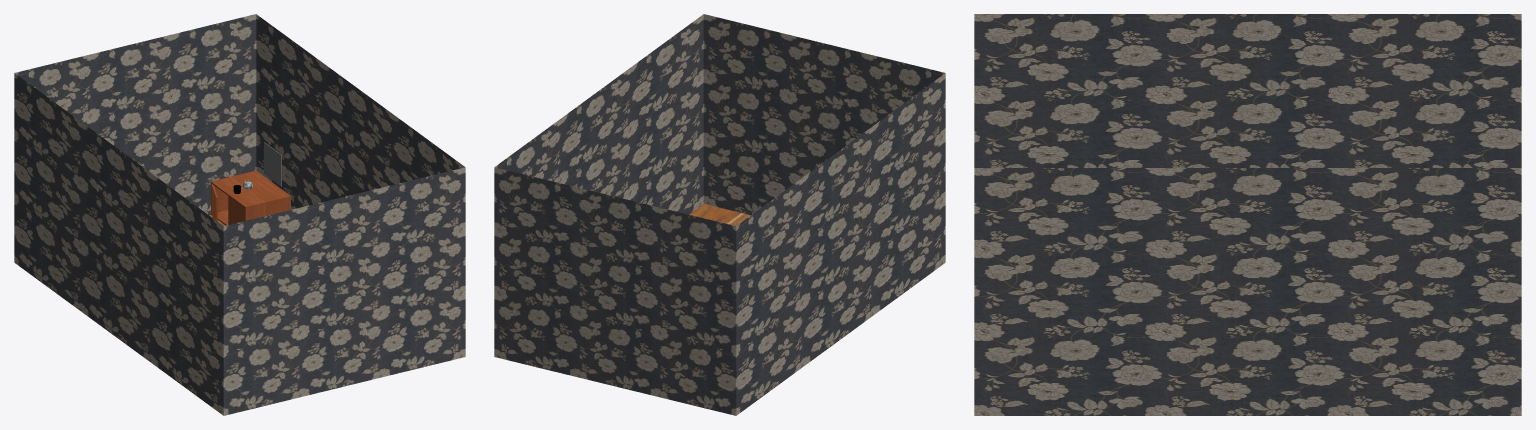
The picture shows the model from 3 angles, left to right: view 1: azimuth 30°, elevation 25°; view 2: azimuth 150°, elevation 25°; view 3: azimuth 270°, elevation 25°; orthographic projection. The views are drawn at different scales.
Visible parts, largest first — view 1: PlaneXZ0, PlaneZY0, PlaneXZ1, PlaneZY1, BoxLockerTop, BoxMirror, BoxLockerRight; view 2: PlaneXZ1, PlaneZY0, PlaneXZ0, PlaneZY1, PlaneXY0; view 3: PlaneZY1, PlaneZY0.
Boxes of the visible parts, left/top/right/bottom form: PlaneXZ0: left=223, top=167, right=465, bottom=415; PlaneZY0: left=14, top=73, right=223, bottom=415; PlaneXZ1: left=15, top=14, right=256, bottom=214; PlaneZY1: left=256, top=14, right=464, bottom=209; BoxLockerTop: left=211, top=170, right=290, bottom=208; BoxMirror: left=264, top=142, right=281, bottom=186; BoxLockerRight: left=245, top=197, right=290, bottom=220; PlaneXZ1: left=494, top=167, right=736, bottom=415; PlaneZY0: left=736, top=73, right=945, bottom=415; PlaneXZ0: left=703, top=14, right=944, bottom=214; PlaneZY1: left=495, top=14, right=703, bottom=214; PlaneXY0: left=689, top=204, right=750, bottom=225; PlaneZY1: left=974, top=168, right=1521, bottom=415; PlaneZY0: left=974, top=14, right=1521, bottom=167.
Bounding box in the file's own units: 4 × 3 × 6.
Materials: 6 (4 with a texture image).
